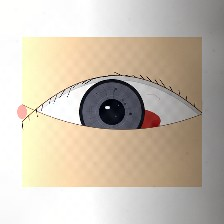hemorrhage_spot: (77, 82, 174, 160)
